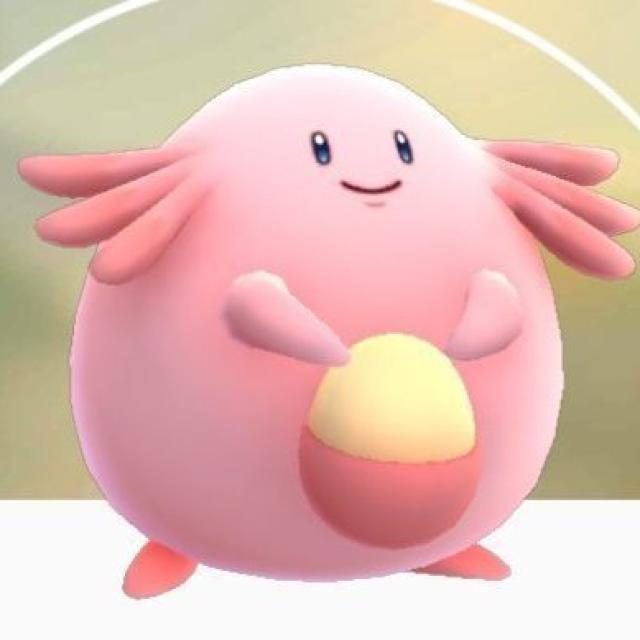Chansey: (28, 63, 615, 610)
